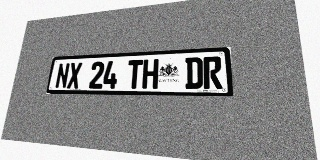2: (89, 61, 105, 89)
4: (102, 61, 119, 89)
D: (185, 57, 203, 89)
H: (142, 59, 159, 89)
N: (55, 63, 70, 88)
R: (203, 56, 222, 89)
T: (126, 60, 143, 89)
X: (67, 62, 82, 88)
